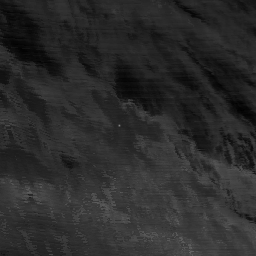Target: (116, 122, 122, 129)
